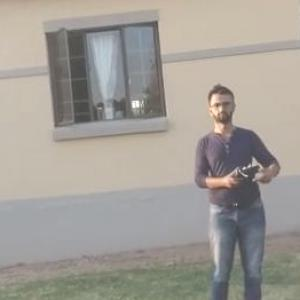follow: (183, 78, 291, 299)
